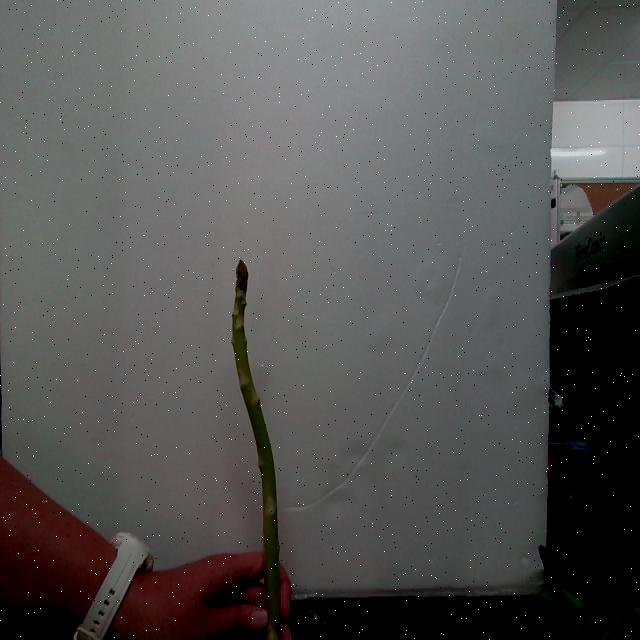aspargus: (233, 262, 284, 640)
